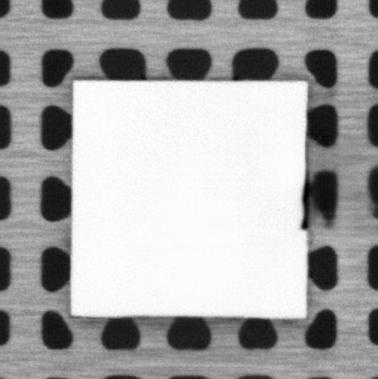DIE_BROKEN: (299, 177, 310, 232)
